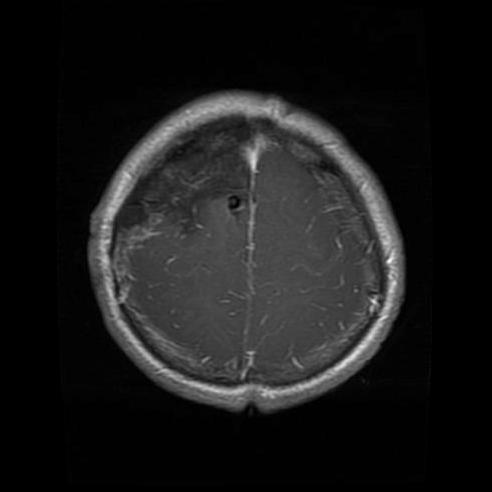Tumour-Glioma: (133, 147, 265, 227)
